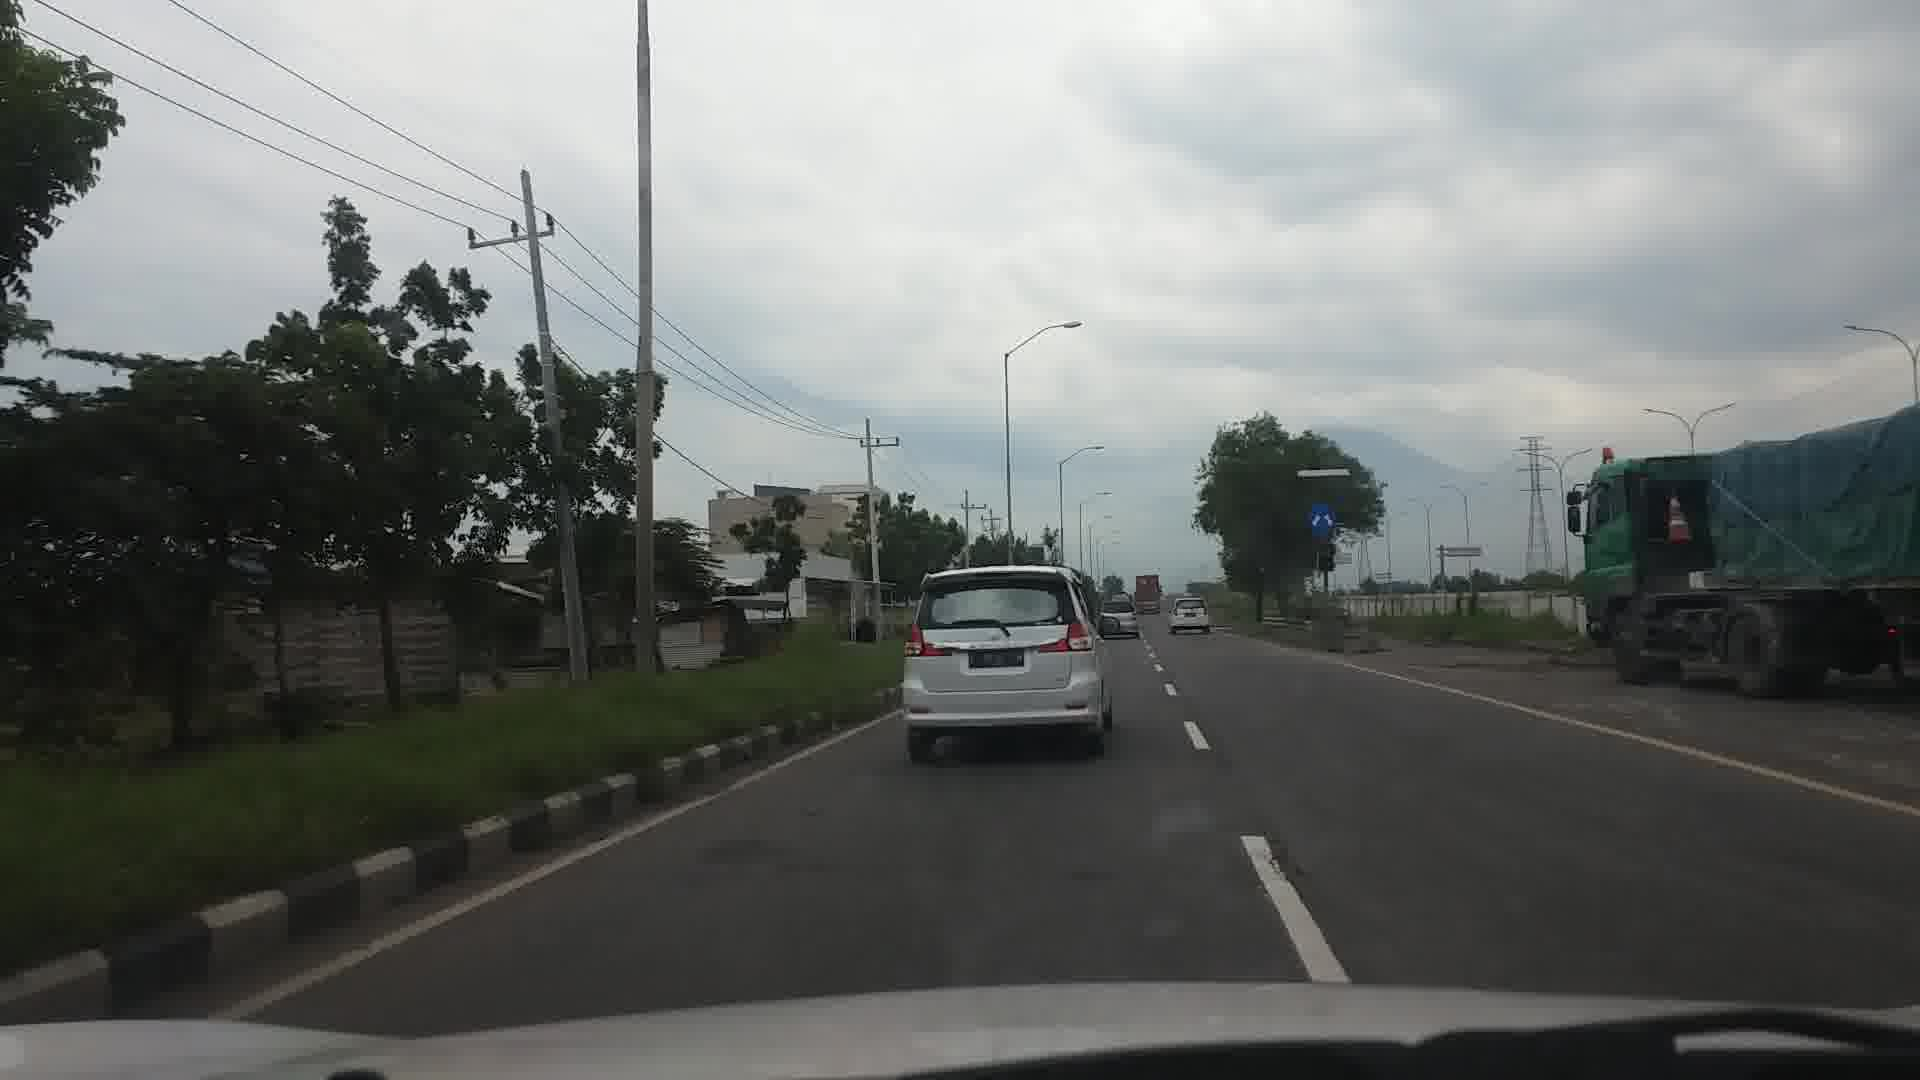plate_positive: (968, 649, 1025, 669)
